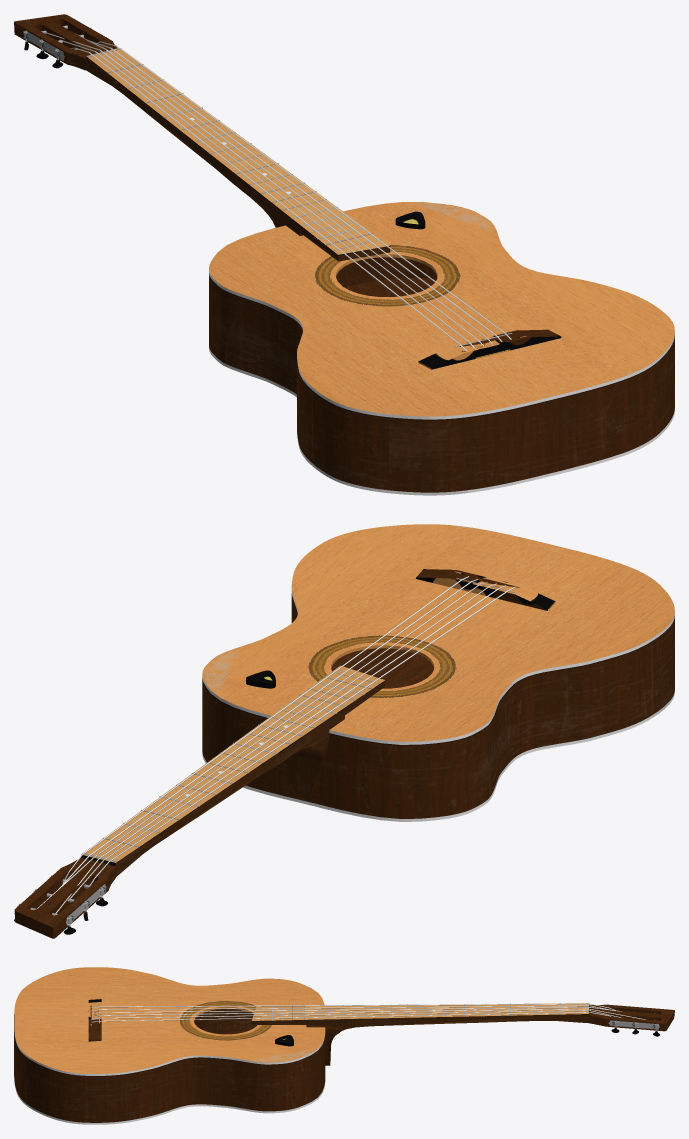
File: new_guitar.glb
The picture shows the model from 3 angles, top to bottom: view 1: azimuth 30°, elevation 25°; view 2: azimuth 150°, elevation 25°; view 3: azimuth 270°, elevation 25°; orthographic projection. The views are drawn at different scales.
Visible parts, largest first — view 1: Object_14, Object_9, Object_3, Object_17, Object_4, Object_10; view 2: Object_14, Object_9, Object_3, Object_17, Object_4, Object_10; view 3: Object_14, Object_9, Object_3, Object_17, Object_4, Object_10, Object_12.
Part boxes in pixels (x1,y1,x2,y2): Object_14: (209,202,674,495); Object_9: (209,257,674,492); Object_3: (85,48,389,261); Object_17: (41,31,511,350); Object_4: (14,14,116,70); Object_10: (57,27,512,347); Object_14: (202,524,674,821); Object_9: (202,593,674,818); Object_3: (81,665,385,876); Object_17: (37,576,515,915); Object_4: (14,858,116,938); Object_10: (35,578,515,920); Object_14: (14,967,325,1124); Object_9: (14,1009,325,1122); Object_3: (251,1003,589,1065); Object_17: (91,1003,645,1022); Object_4: (588,1004,674,1031); Object_10: (99,1003,636,1023); Object_12: (608,1013,659,1031).
Size of the model in its own units: 45.03 by 12.4 by 118.
11 materials, 4 textured.
